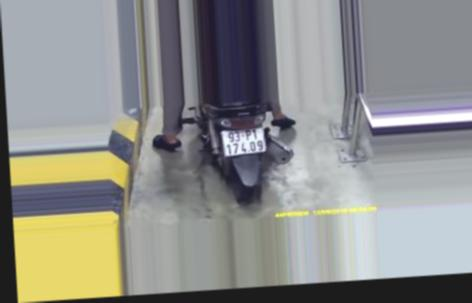License_Plate: (216, 123, 268, 159)
